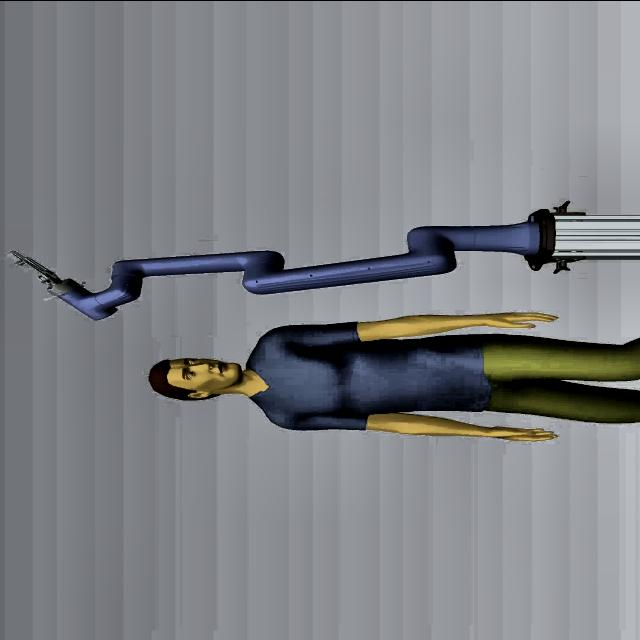human: (146, 310, 638, 440)
robot: (7, 200, 637, 320)
